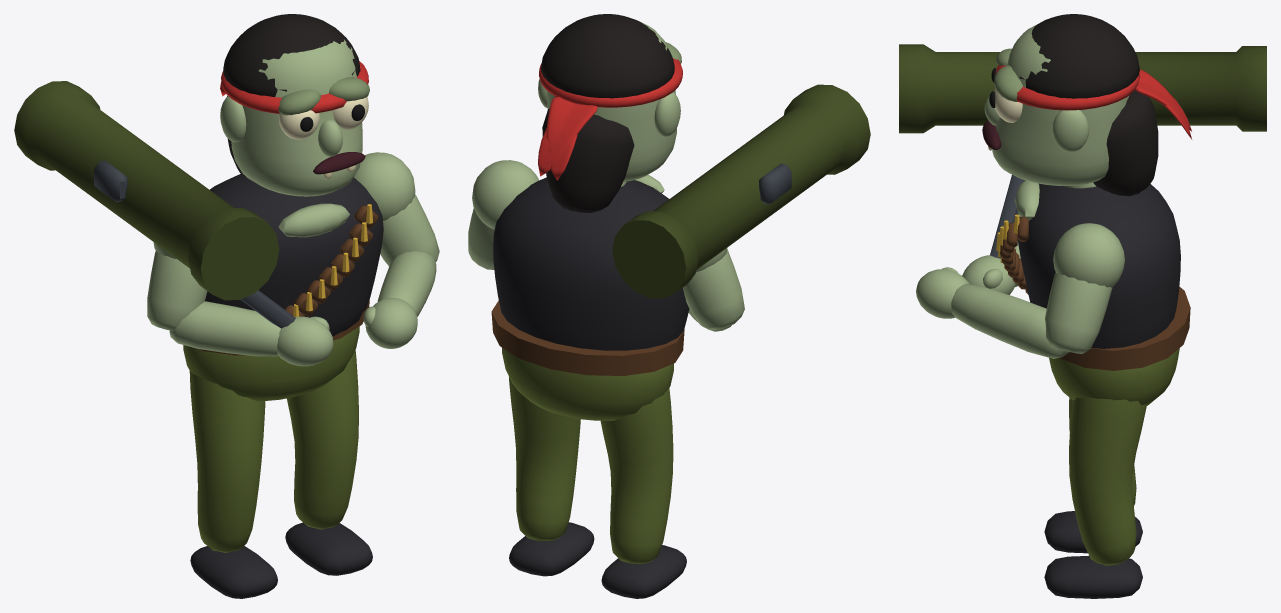
File: action_hero_80s.glb
The picture shows the model from 3 angles, left to right: view 1: azimuth 30°, elevation 25°; view 2: azimuth 150°, elevation 25°; view 3: azimuth 270°, elevation 25°; orthographic projection. The views are drawn at different scales.
Visible parts, largest first — view 1: Weapon, Head, LegR, LegL, Torso, ArmR, ArmL, Hips, Hair, Gear, Headband; view 2: Weapon, Torso, Hair, LegR, LegL, Hips, Belt, Head, Headband, ArmL, ArmR; view 3: Weapon, Torso, LegL, ArmL, Hair, Head, Hips, Belt, Headband, Gear, LegR, ArmR.
Boxes of the visible parts, x1=… form: Weapon: x1=14, y1=81, x2=295, y2=328; Head: x1=220, y1=39, x2=369, y2=196; LegR: x1=189, y1=370, x2=277, y2=598; LegL: x1=285, y1=350, x2=372, y2=575; Torso: x1=205, y1=174, x2=383, y2=336; ArmR: x1=147, y1=242, x2=333, y2=366; ArmL: x1=354, y1=152, x2=439, y2=348; Hips: x1=183, y1=326, x2=359, y2=401; Hair: x1=223, y1=14, x2=360, y2=176; Gear: x1=278, y1=203, x2=378, y2=316; Headband: x1=220, y1=61, x2=368, y2=113; Weapon: x1=612, y1=84, x2=870, y2=298; Torso: x1=493, y1=177, x2=689, y2=350; Hair: x1=541, y1=14, x2=674, y2=212; LegR: x1=600, y1=388, x2=686, y2=598; LegL: x1=509, y1=377, x2=594, y2=576; Hips: x1=502, y1=348, x2=673, y2=420; Belt: x1=491, y1=300, x2=684, y2=375; Head: x1=538, y1=20, x2=681, y2=181; Headband: x1=538, y1=58, x2=682, y2=180; ArmL: x1=468, y1=160, x2=539, y2=269; ArmR: x1=683, y1=247, x2=744, y2=331; Weapon: x1=899, y1=44, x2=1266, y2=258; Torso: x1=1017, y1=182, x2=1180, y2=352; LegL: x1=1044, y1=397, x2=1146, y2=598; ArmL: x1=916, y1=223, x2=1124, y2=358; Hair: x1=1019, y1=14, x2=1158, y2=196; Head: x1=982, y1=24, x2=1129, y2=185; Hips: x1=1049, y1=348, x2=1179, y2=405; Belt: x1=1059, y1=286, x2=1190, y2=370; Headband: x1=995, y1=65, x2=1191, y2=139; Gear: x1=996, y1=180, x2=1039, y2=294; LegR: x1=1044, y1=397, x2=1142, y2=553; ArmR: x1=962, y1=241, x2=1020, y2=294.
Size of the model in its own units: 1.2 by 1.98 by 1.2.
